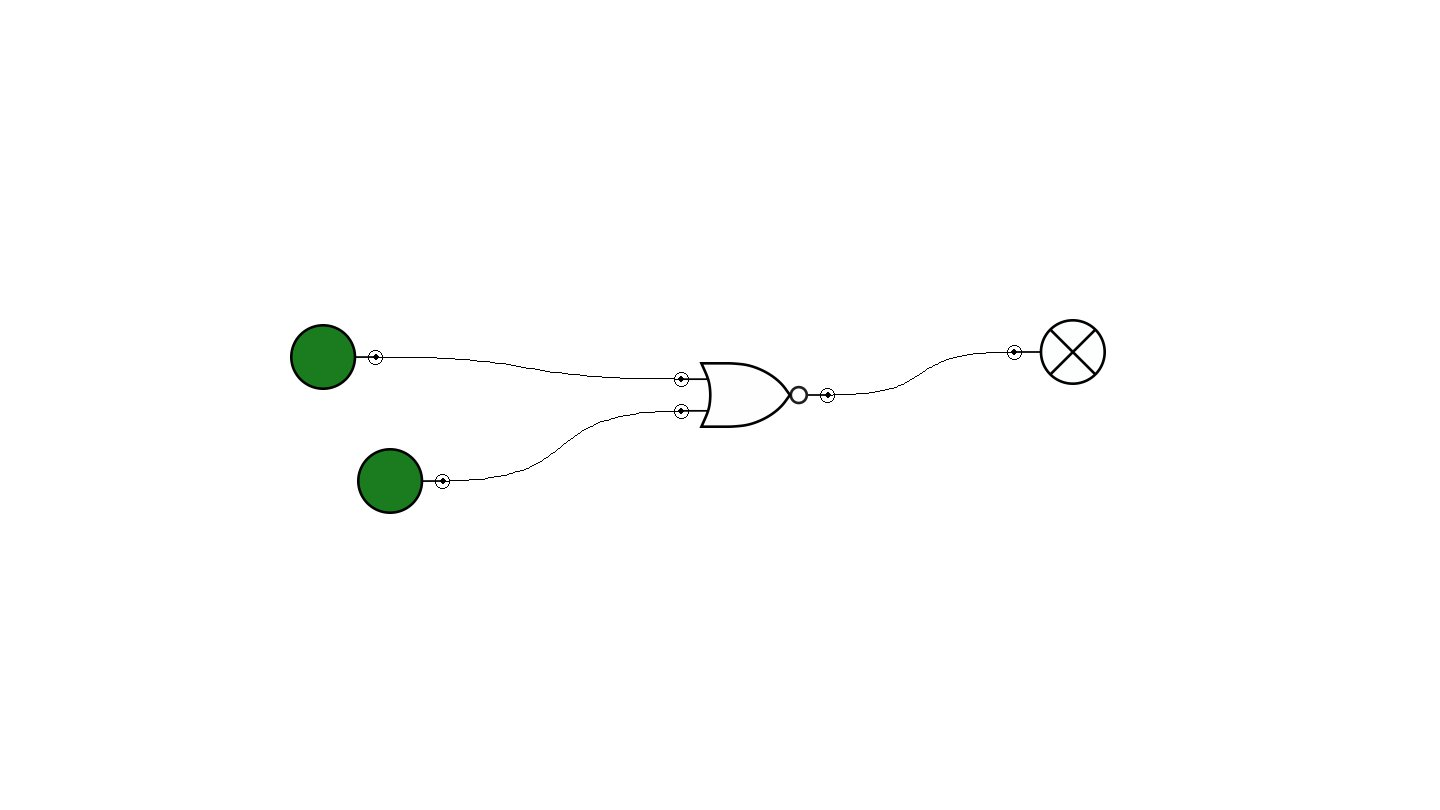bulb: (1007, 319, 1106, 385)
nor: (674, 362, 835, 428)
switch_True: (357, 448, 450, 514), (290, 324, 383, 390)
